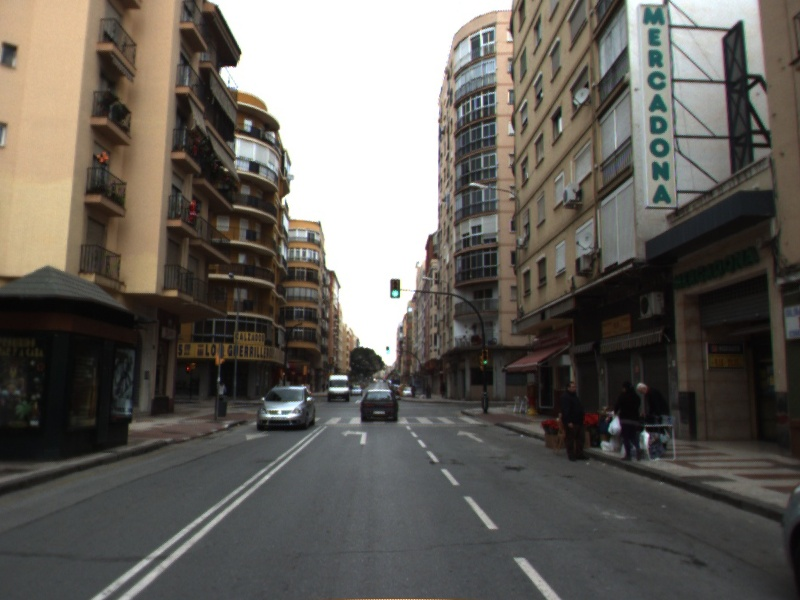LEFT: (339, 428, 368, 446)
STRAIGHT: (455, 428, 484, 443)
